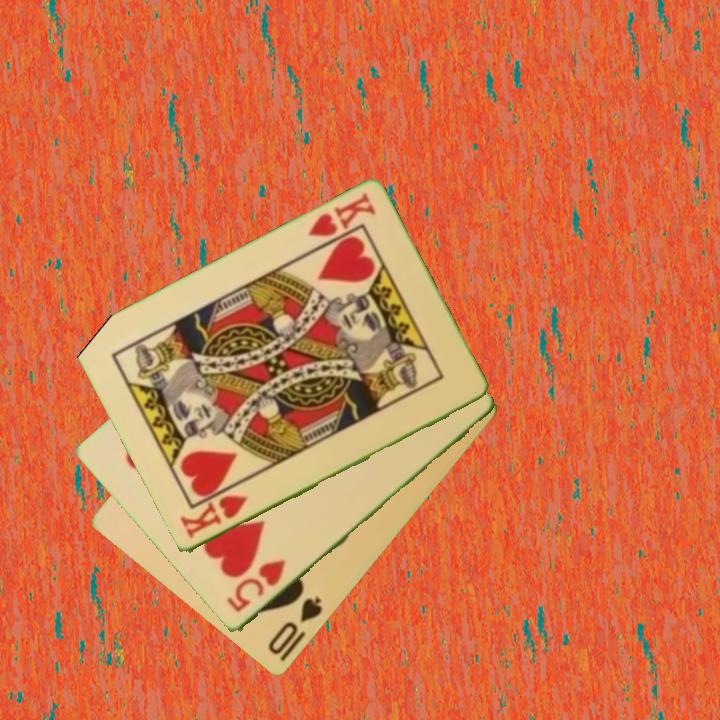10s: (264, 594, 326, 659)
5h: (222, 556, 289, 616)
Kh: (176, 492, 251, 543), (304, 190, 379, 241)
